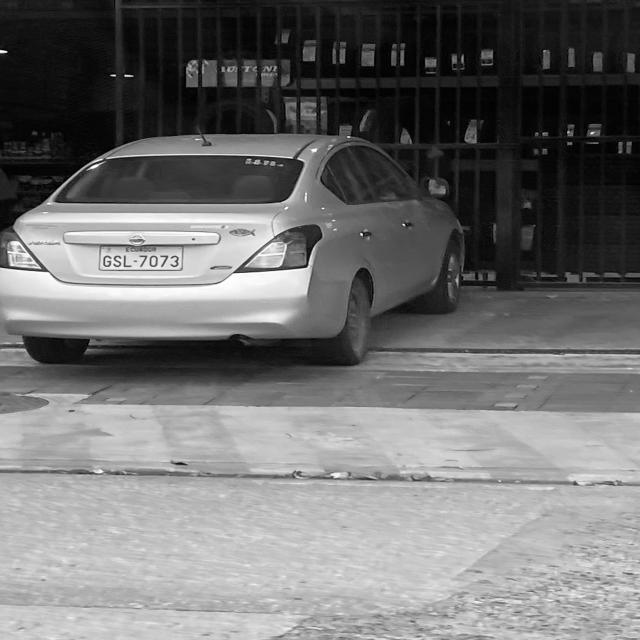Placa: (100, 246, 183, 271)
